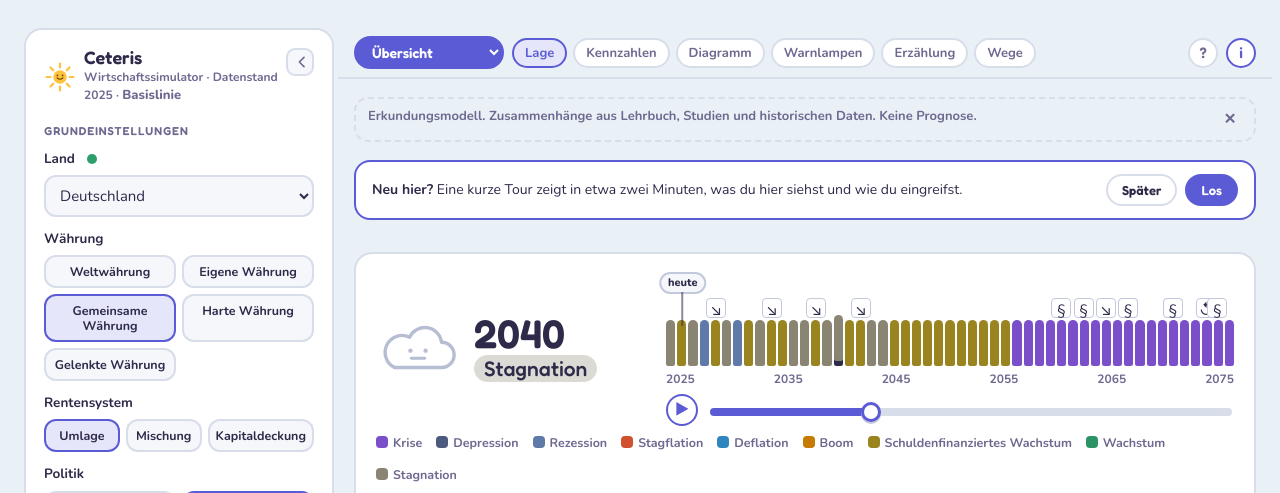
Test case: Rückblick-Ansicht › zeigt neun Größen mit Band-Treffern, Theil's U und Urteil
The width and height of the screenshot is (1280, 493).
Select "Rückblick" in the dropdown named "Ansichten" at (429, 52), box x1=354 y1=36 x2=504 y2=69
(page scrolled)
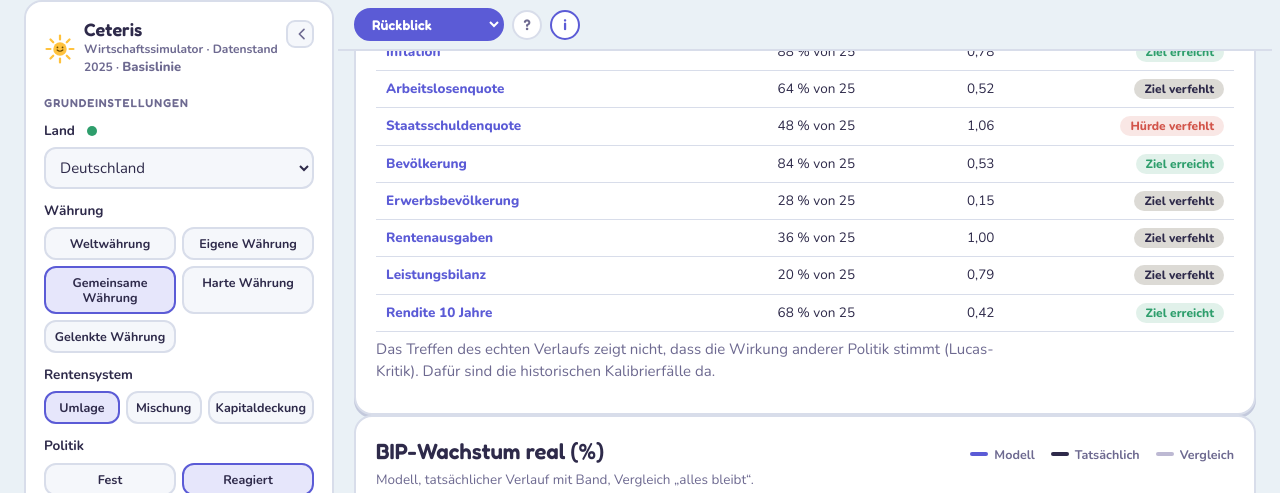
Expected: the column heading "Erwerbsbevölkerung" is shown, x1=376 y1=182 x2=665 y2=220
Expected: the number of elements with class "bewertung" is 9
Expected: the text "Das Treffen des echten Verlaufs zeigt nicht" is shown, x1=376 y1=339 x2=994 y2=381
